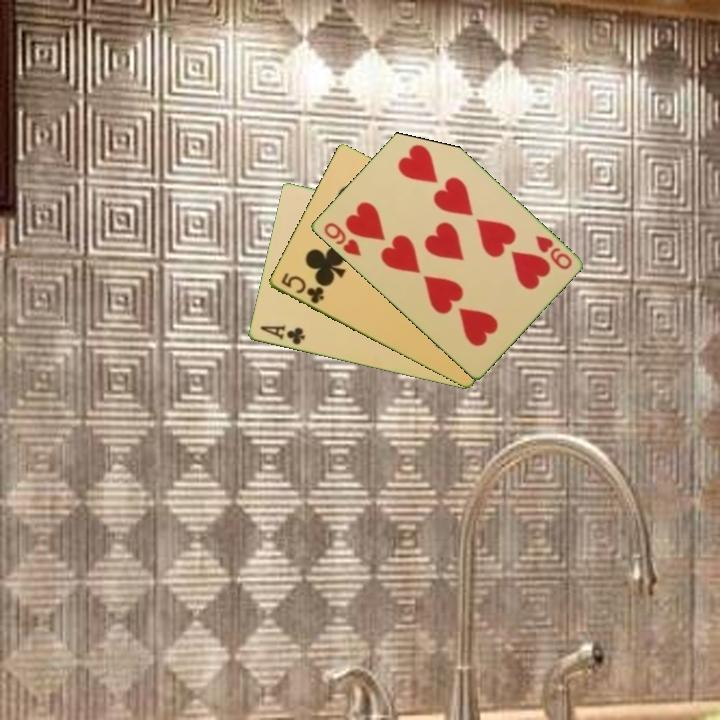5c: (277, 269, 327, 307)
9h: (320, 219, 364, 260), (531, 232, 575, 273)
Ac: (256, 321, 308, 348)
